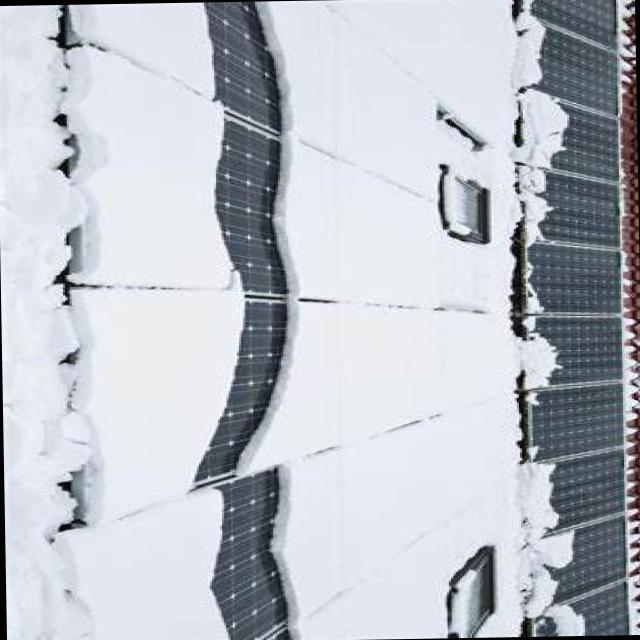Anomaly Solar Panel: (0, 0, 632, 638)
Snow: (237, 0, 533, 640), (0, 2, 246, 640)
